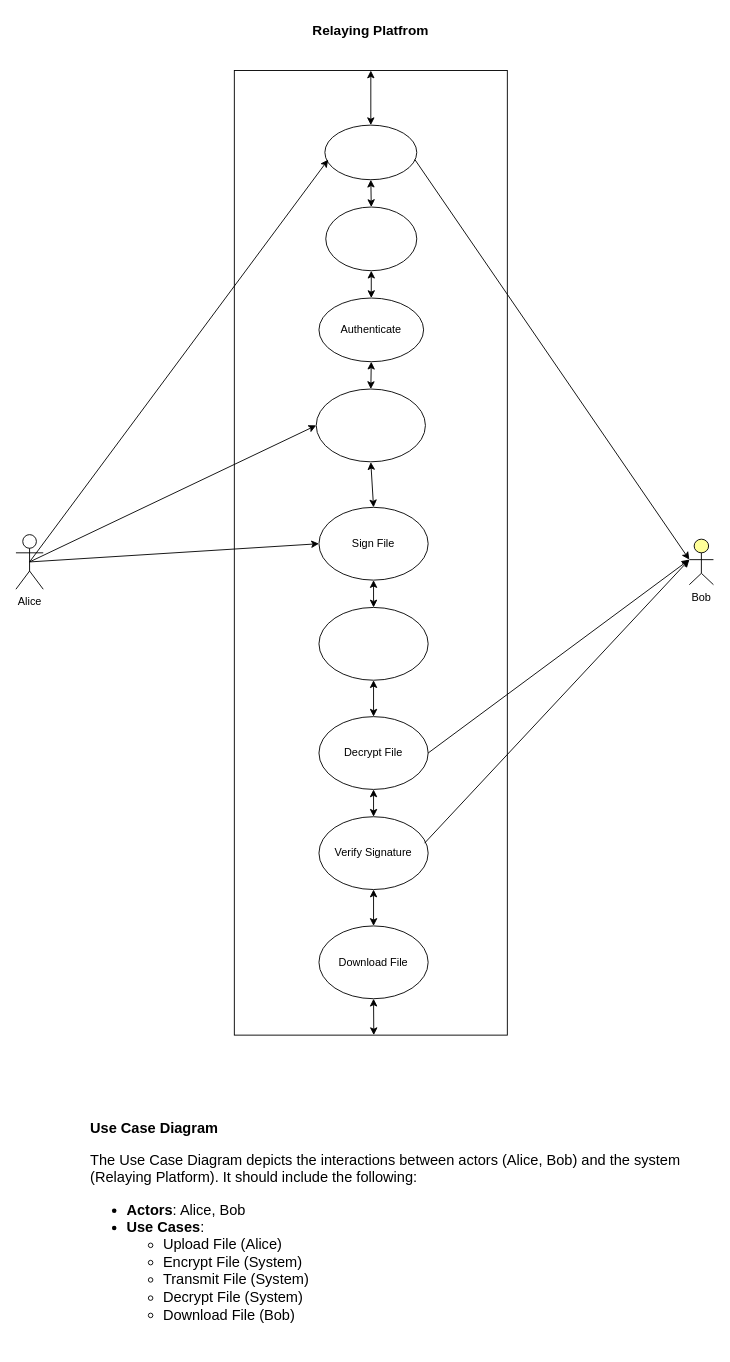
The diagram is 730 pixels wide and 1362 high, and some of its shapes have lost their labels. The shapes that lost their labels are listed below. From the top down, each one's centre as x and y in pixels, then its label:
At pixel 370 152: "Generate Key Pair".
At pixel 371 238: "Exchange Keys".
At pixel 370 425: "Encrypt File".
At pixel 373 643: "Transmit File".
